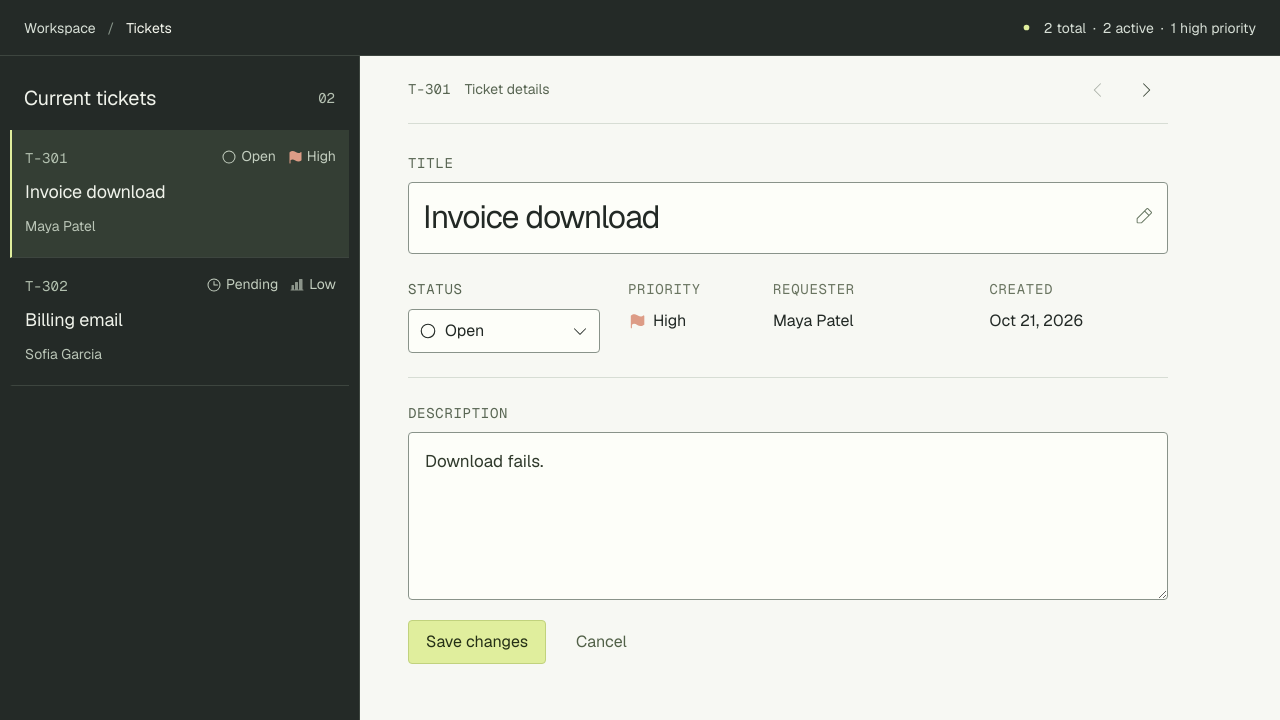
Test: ticket workspace › preserves independent unsaved drafts while switching tickets and clears only the cancelled draft
This screenshot has width=1280, height=720.
Step 1. Replace the text in the text box labelled "Title" with "Invoice draft" → (788, 218), box [408, 182, 1168, 254]
Step 2. Replace the text in the text box labelled "Description" with "Draft investigation notes" → (788, 516), box [408, 432, 1168, 600]
Step 3. Select "Pending" in the dropdown labelled "Status" → (517, 331), box [445, 310, 589, 352]
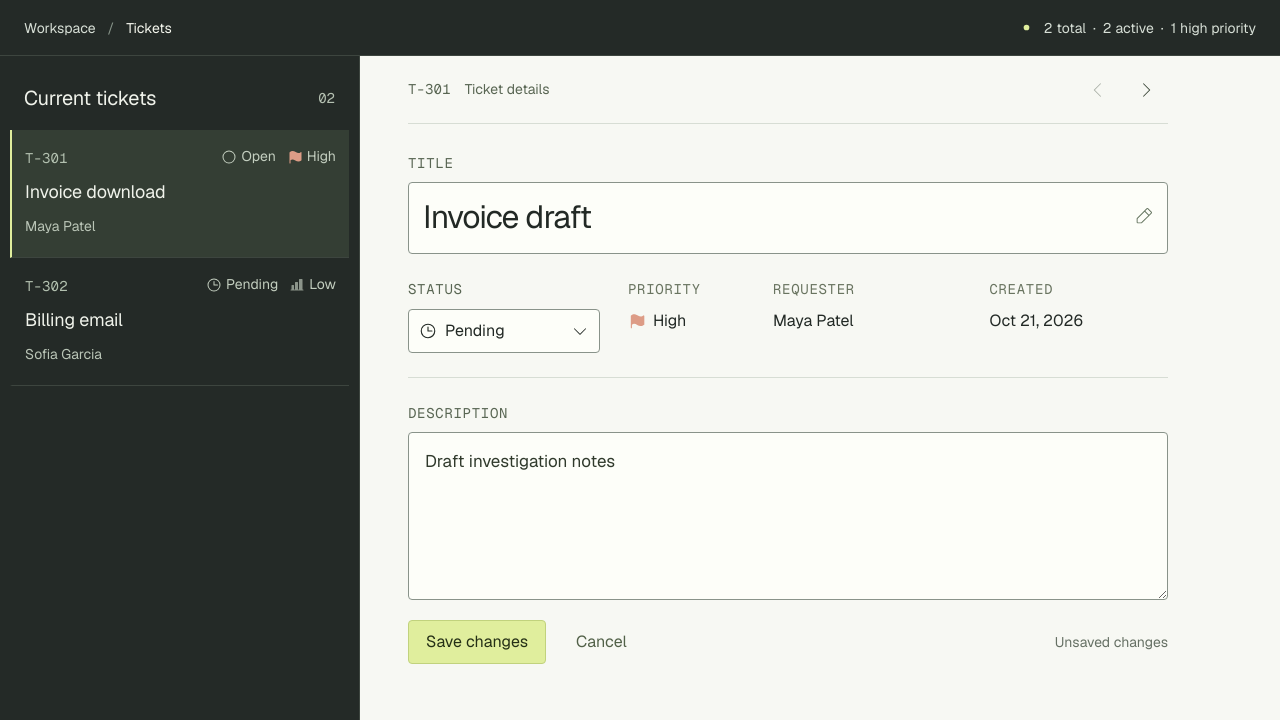
Step 4. Click the button with aria-label "View details for T-302" → (46, 286), box [10, 258, 349, 386]
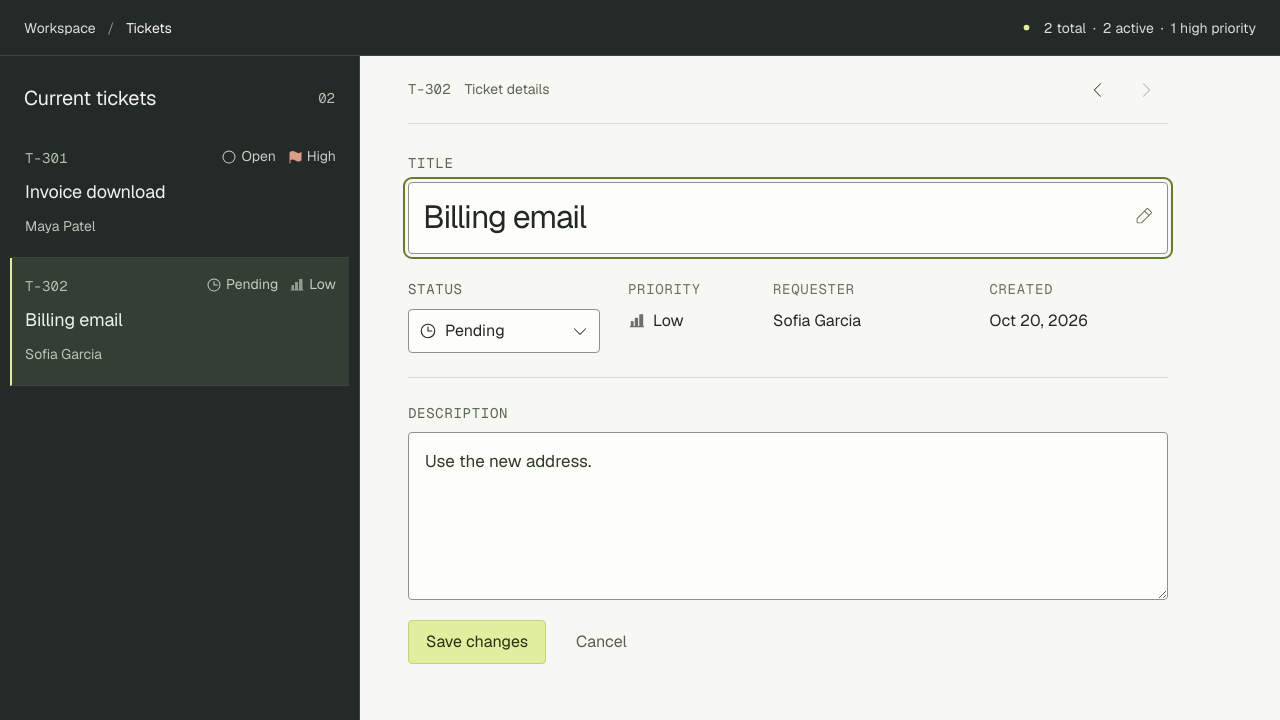
Step 5. Replace the text in the text box labelled "Title" with "Billing draft" → (788, 218), box [408, 182, 1168, 254]
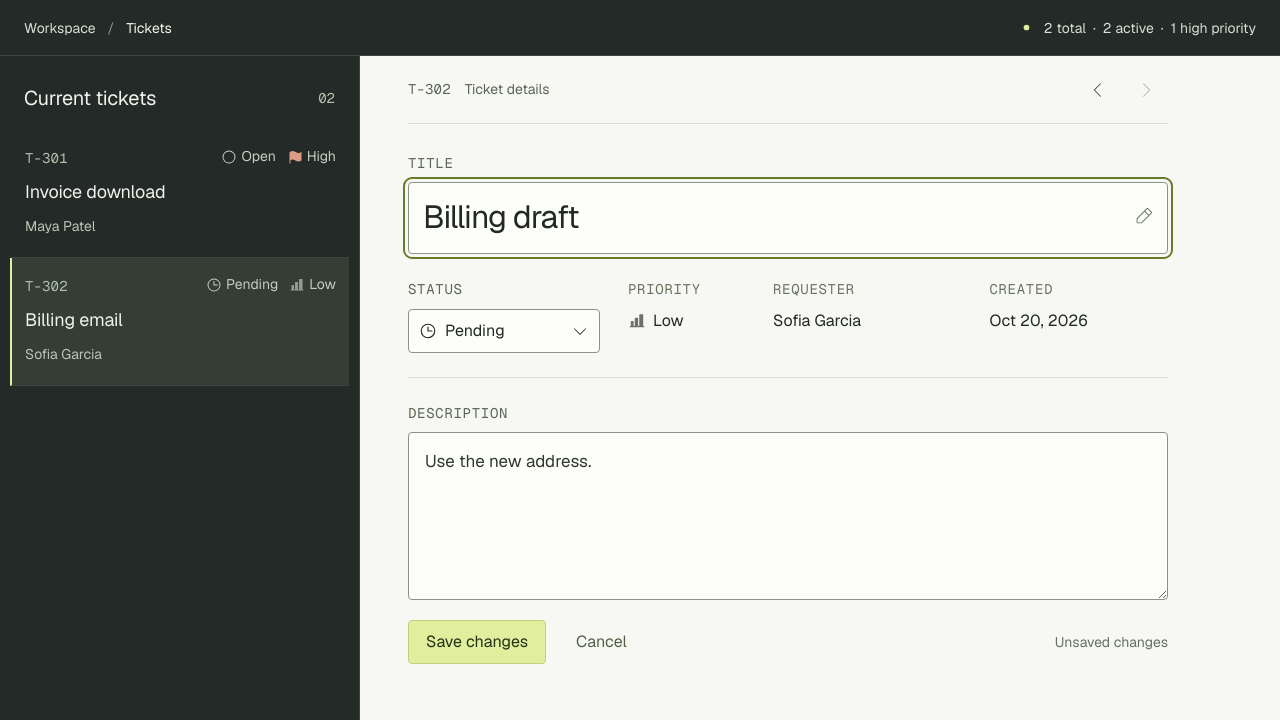
Step 6. Click the button with aria-label "View details for T-301" → (46, 158), box [10, 130, 349, 258]
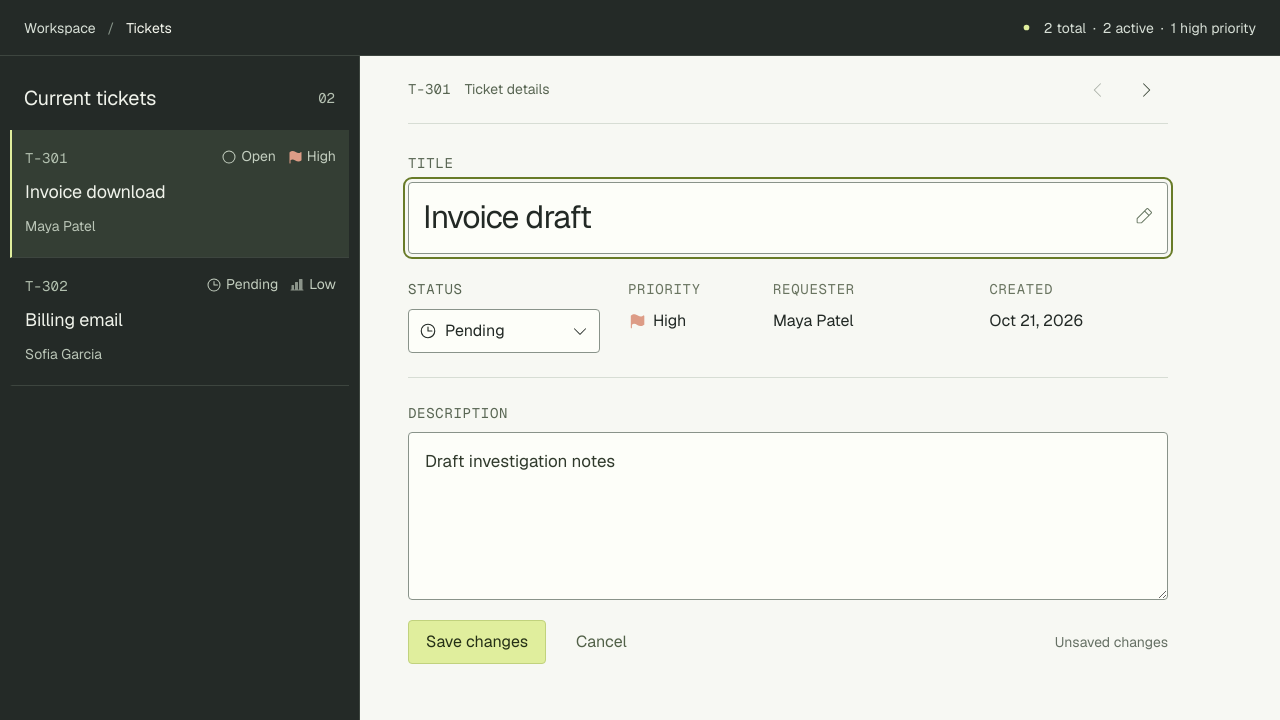
Expected: the dropdown labelled "Status" shows "Pending", [445, 310, 589, 352]
Expected: the text box labelled "Title" holds "Invoice draft", [408, 182, 1168, 254]
Expected: the text box labelled "Description" holds "Draft investigation notes", [408, 432, 1168, 600]
Step 7. Click the button "Cancel" → (601, 642), box [558, 620, 645, 664]
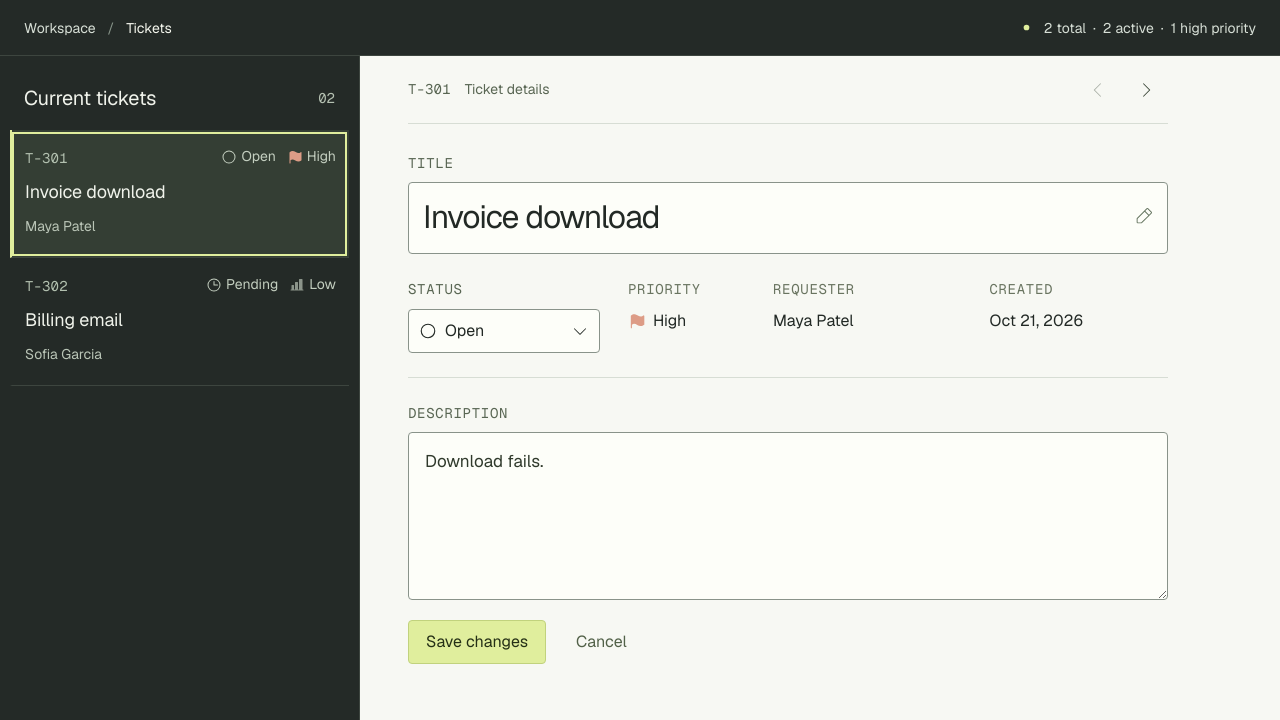
Expected: the text box labelled "Title" holds "Invoice download", [408, 182, 1168, 254]
Step 8. Click the button with aria-label "View details for T-302" → (46, 286), box [10, 258, 349, 386]
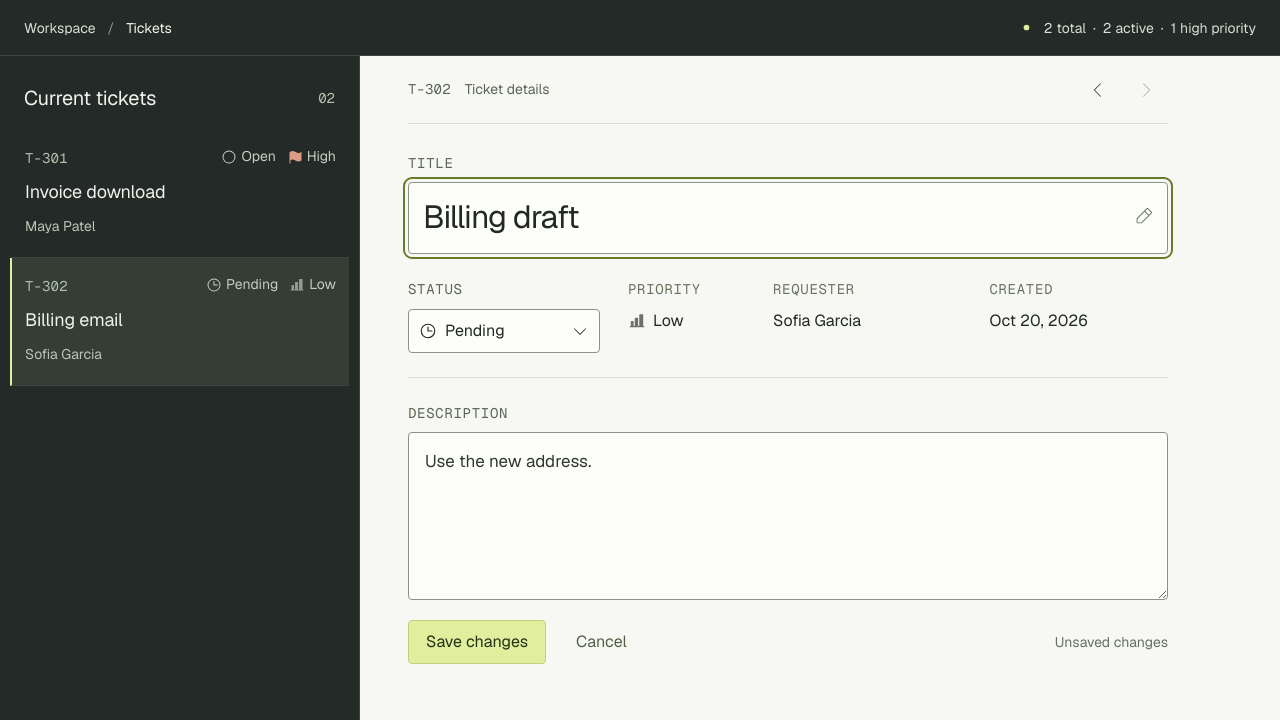
Expected: the text box labelled "Title" holds "Billing draft", [408, 182, 1168, 254]
